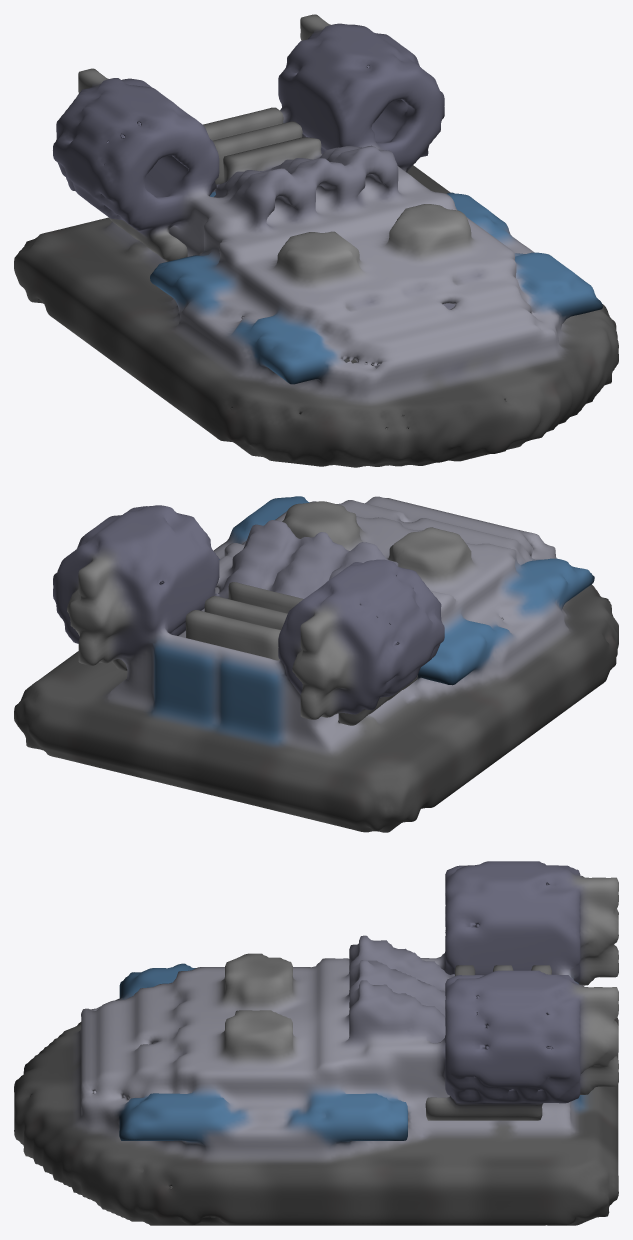
File: lcrf.glb
3 views of the same model, one above another, from view 1: azimuth 30°, elevation 25°; view 2: azimuth 150°, elevation 25°; view 3: azimuth 270°, elevation 25° (orthographic).
Parts seen in each view (by area): view 1: lcrf; view 2: lcrf; view 3: lcrf.
Part boxes in pixels (box(x1,y1,x2,y2)): lcrf: box(14, 14, 618, 467); lcrf: box(14, 496, 618, 832); lcrf: box(14, 861, 618, 1225).
Size of the model in its own units: 3.92 by 2.05 by 5.26.
